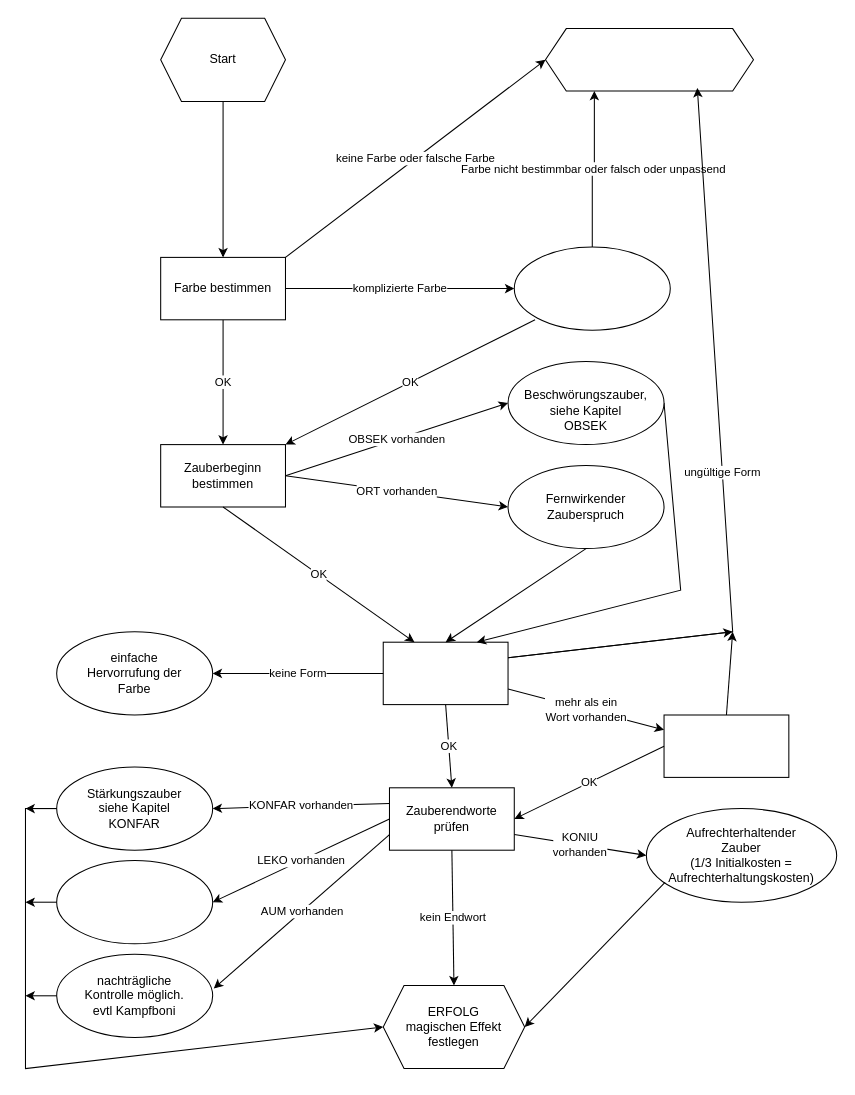
Some shapes in this 855 by 1095 pixel diagram are drawn without their labels. The box of each missing label's shape, as (x1, y1, x2, y2) in pixels:
Explosionszauber, siehe Kapitel LEKO und Kampf: (56, 860, 213, 944)
FEHLSCHLAG: (544, 28, 753, 91)
Form bestimmen: (382, 641, 508, 705)
Kapitel zurate ziehen: komplexe Magie, Zauberdeutlichkeit CONDUC: (513, 246, 670, 330)
Sonderregeln zur Form prüfen: (663, 714, 789, 777)
